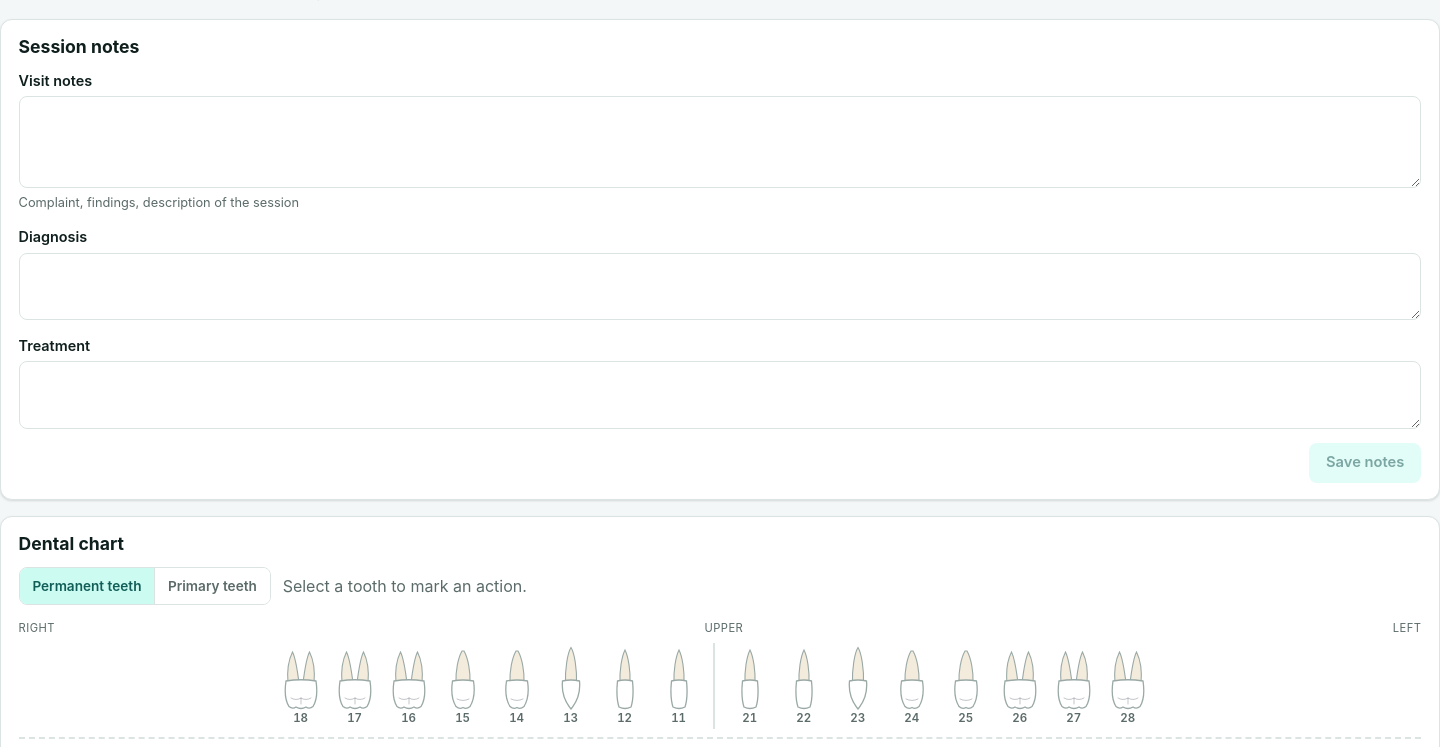
visit page (VISIT-001..007) › lets the owning doctor record and complete the visit
The image size is (1440, 747).
Type "Caries" into the text box labelled "Diagnosis".
click(720, 287); type("Caries")  # box x1=19 y1=253 x2=1421 y2=320
(page scrolled)
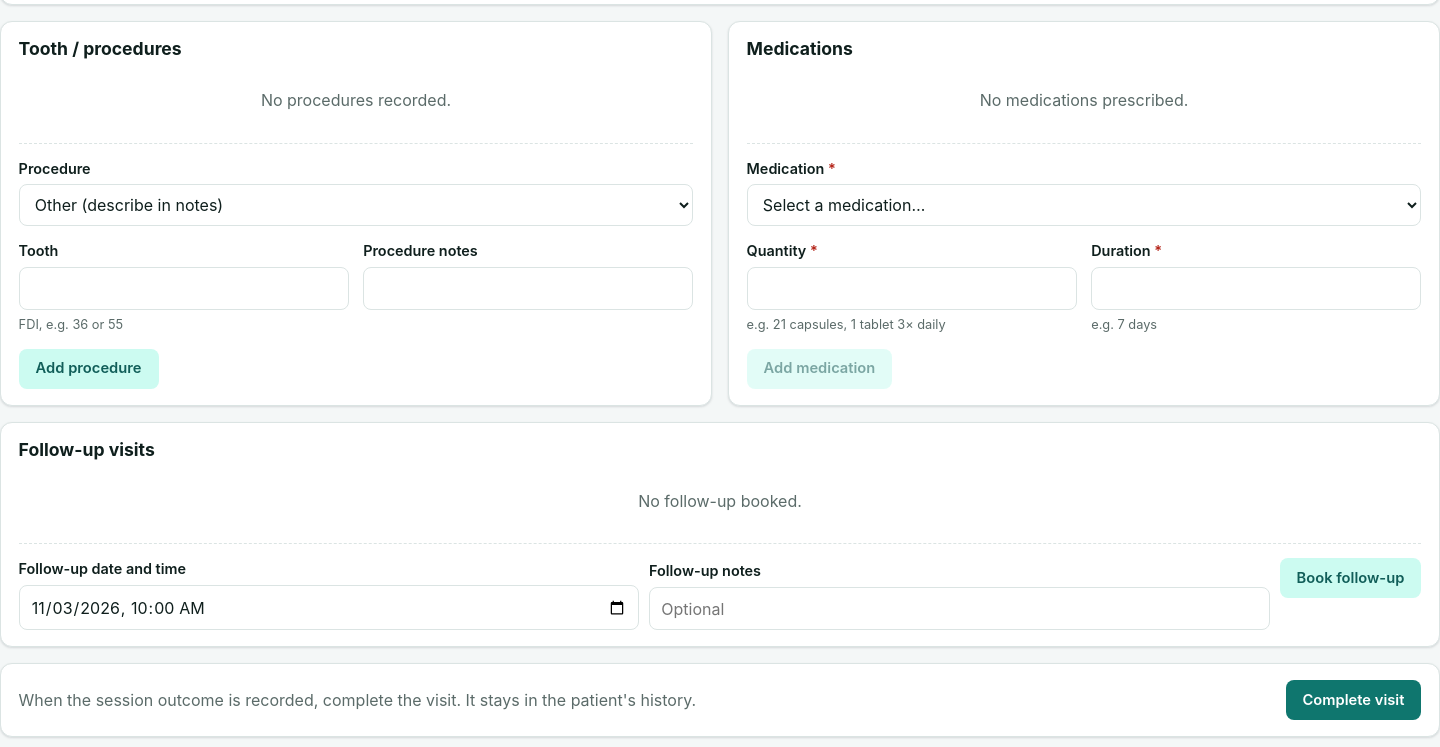
Click the button "Complete visit".
click(1353, 700)  # box x1=1286 y1=680 x2=1421 y2=720
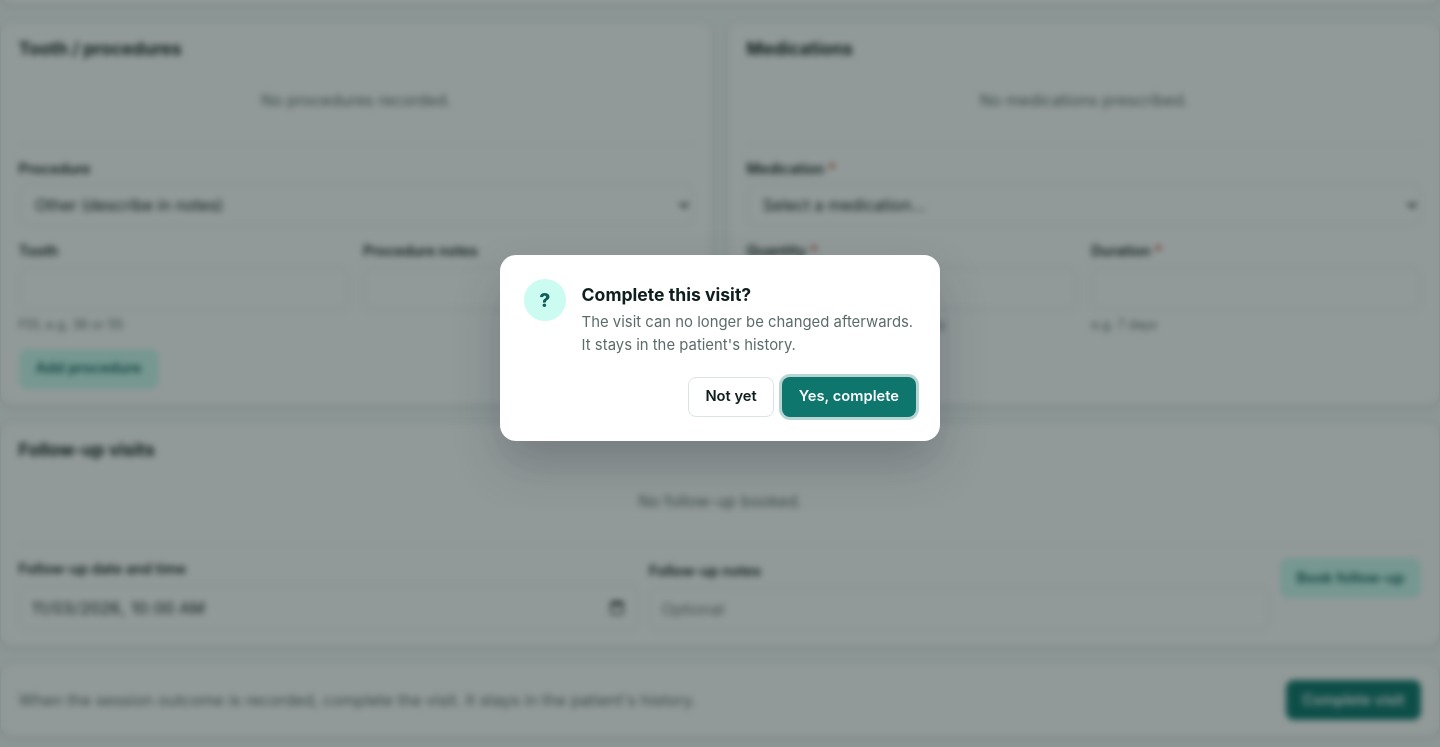
Click the button "Yes, complete".
click(849, 397)  # box x1=782 y1=377 x2=916 y2=417
(page scrolled)
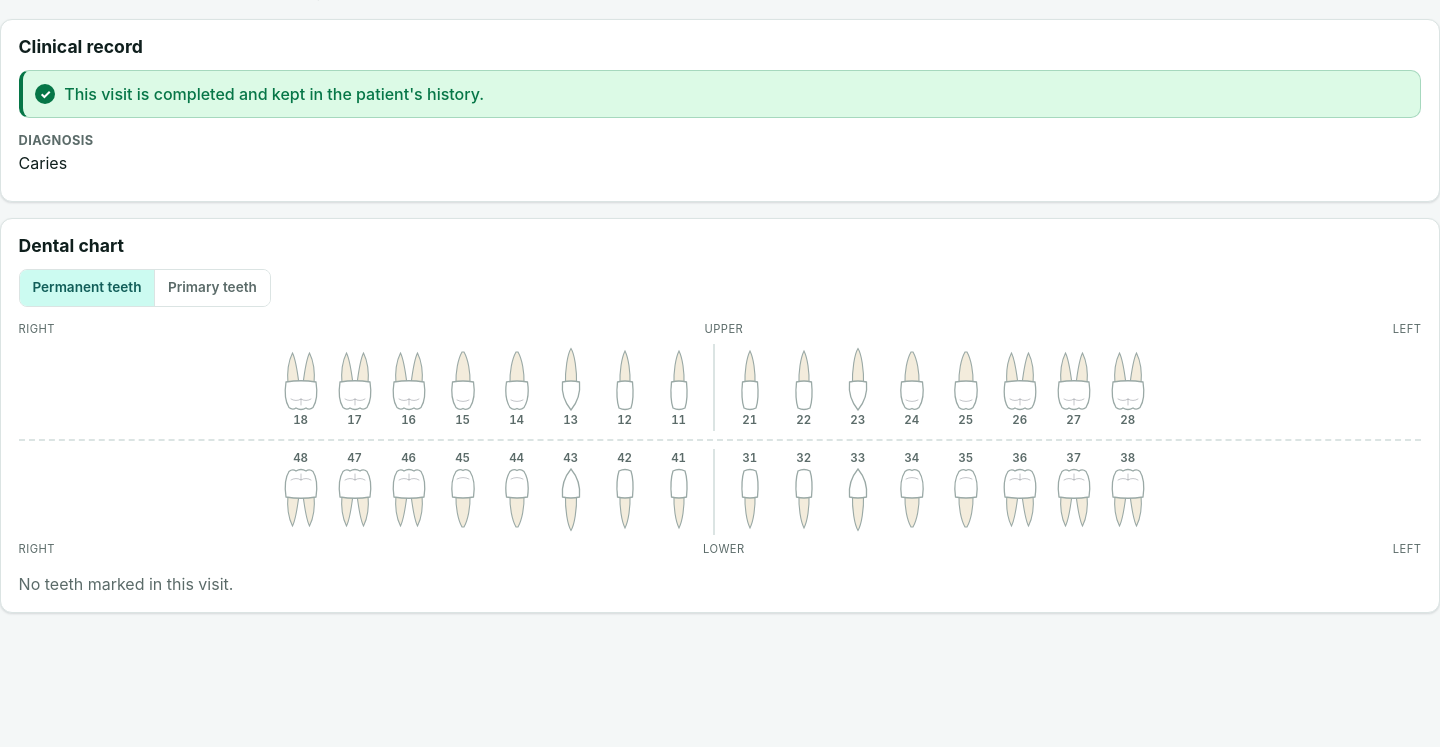
Result: the text "This visit is completed and kept in the patient's history." is shown at x1=19 y1=70 x2=1421 y2=118
